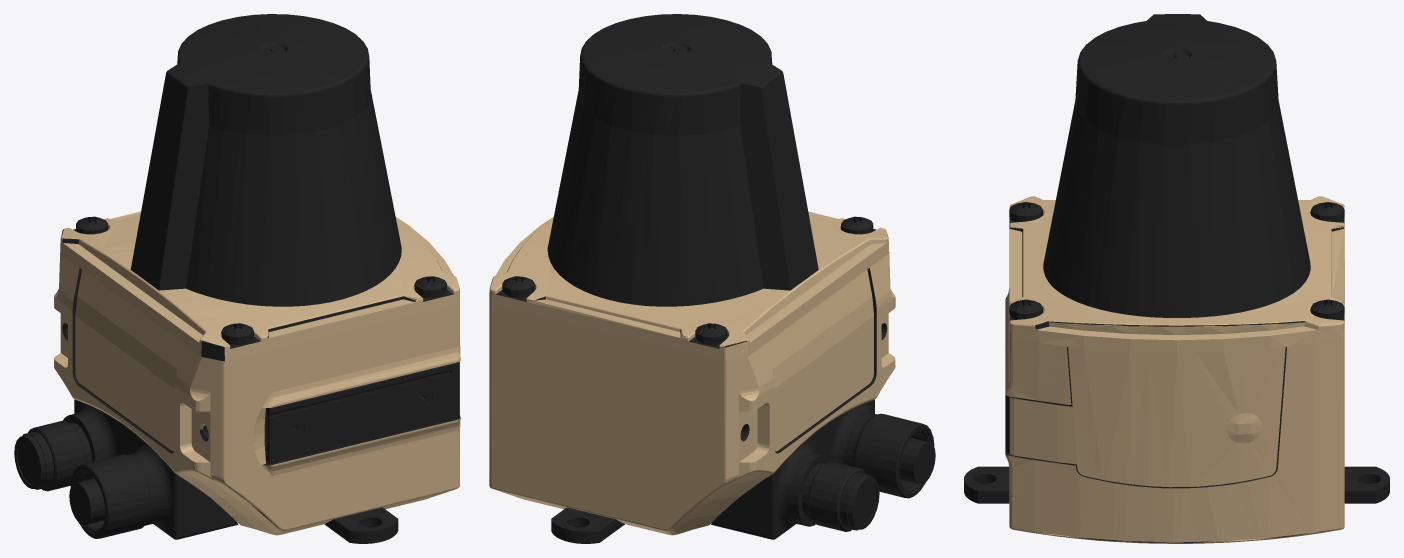
Rendered from sick_tim.dae.
3 views of the same model, side by side, from view 1: azimuth 30°, elevation 25°; view 2: azimuth 150°, elevation 25°; view 3: azimuth 270°, elevation 25° (orthographic). The views are drawn at different scales.
Visible parts, largest first — view 1: sick_tim; view 2: sick_tim; view 3: sick_tim.
Part boxes in pixels (<box>): sick_tim: <box>14,14,460,543</box>; sick_tim: <box>489,14,935,543</box>; sick_tim: <box>964,14,1389,543</box>.
Size of the model in its own units: 0.0763 by 0.0762 by 0.0858.
